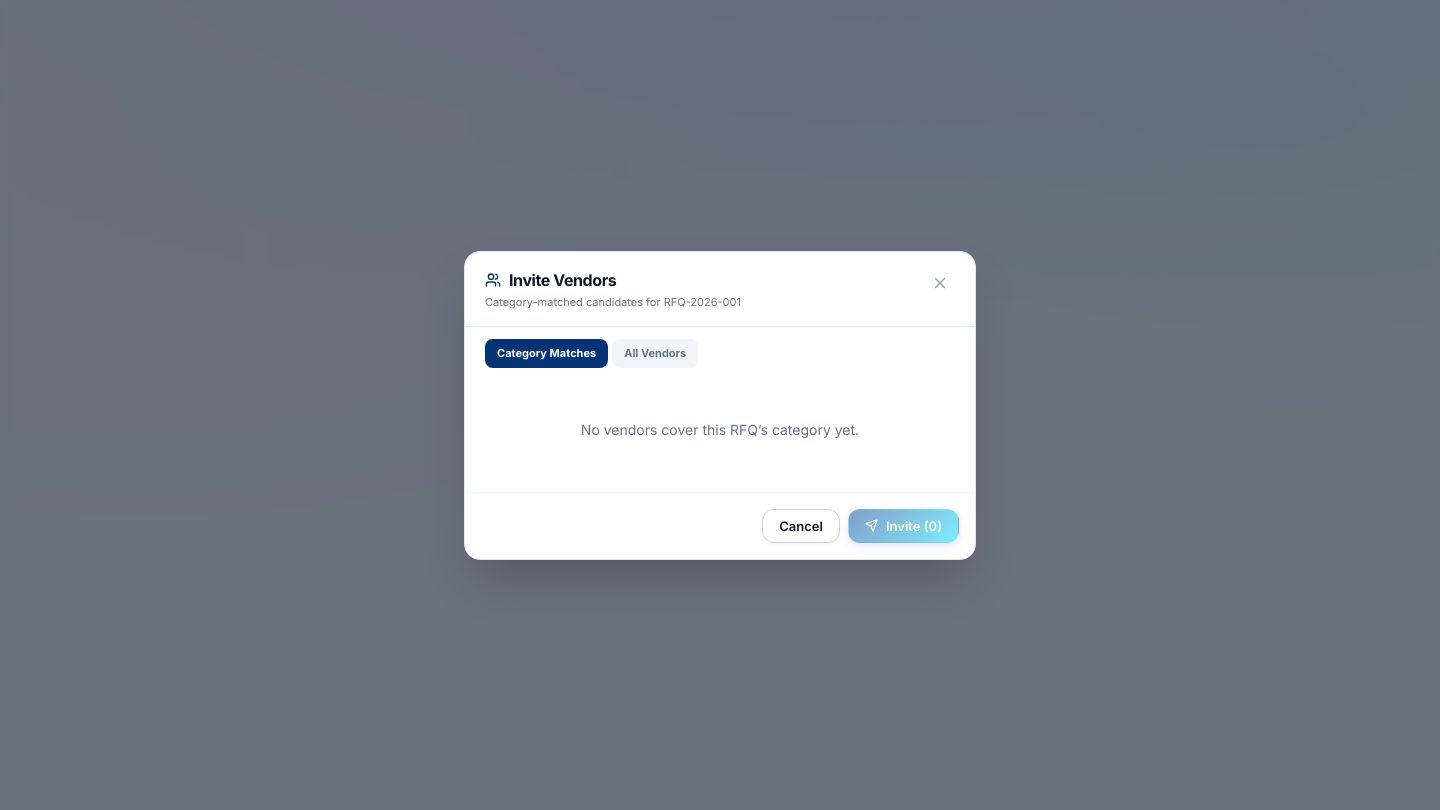
Test: InviteVendorsModal — All Vendors tab › shows an empty state when there are no vendors found
Expected: the text "No vendors cover this RFQ’s category yet." is shown, [581, 420, 859, 438]
Click the button with test id "invite-tab-all" at (655, 353), box [612, 339, 698, 368]
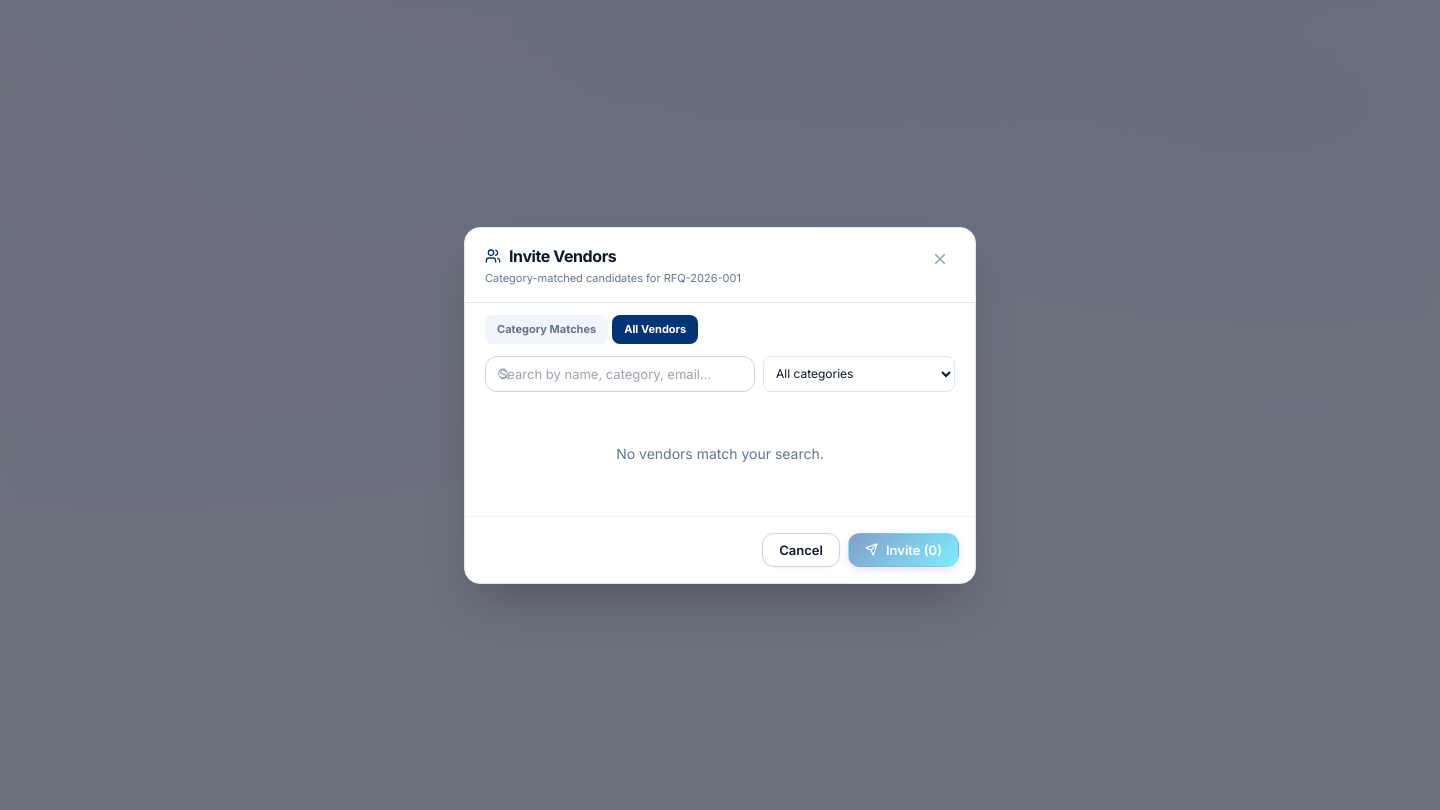
Result: the text "No vendors match your search." is shown at [616, 444, 824, 462]
